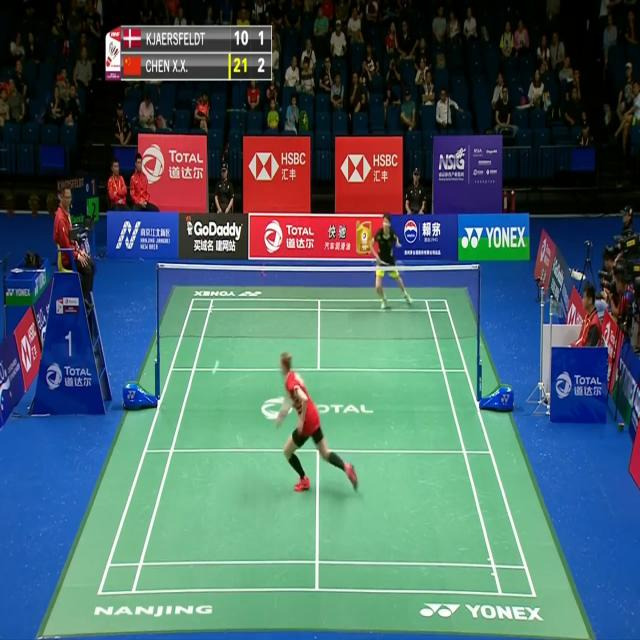Player1: (260, 343, 362, 502)
Player2: (365, 205, 418, 321)
